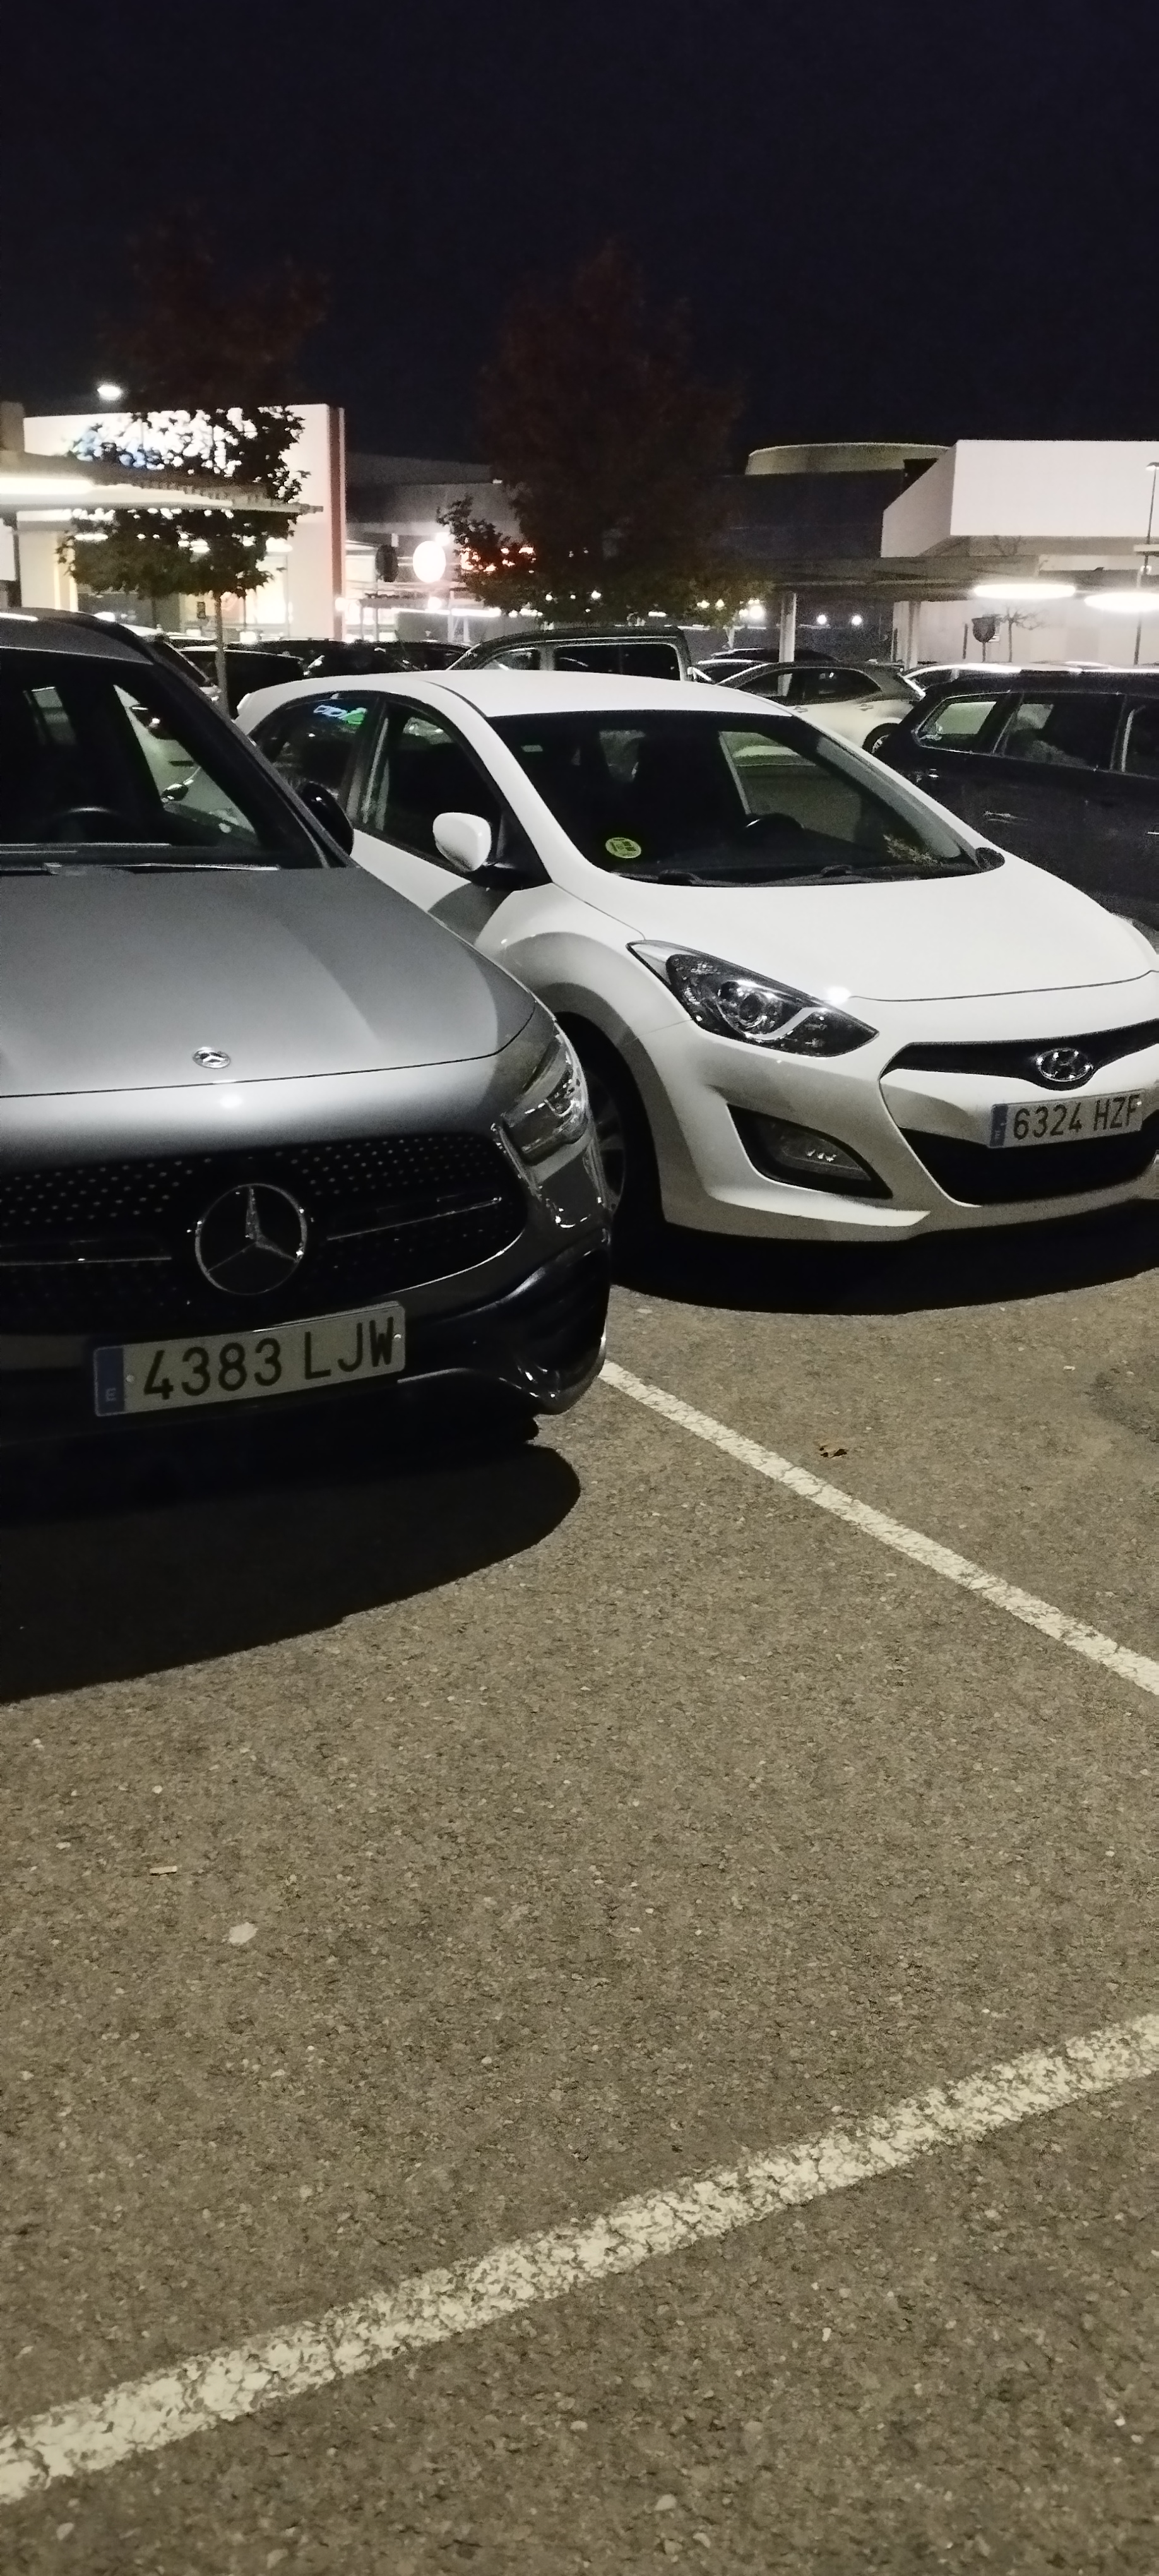Car: (250, 658, 1158, 1286), (0, 624, 603, 1423)
Plate: (90, 1349, 412, 1424), (991, 1105, 1146, 1151)
